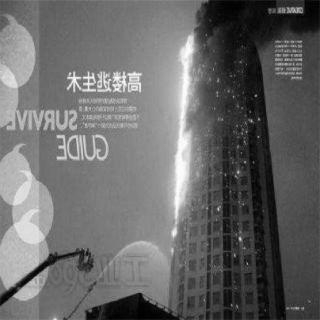Fire: (165, 28, 197, 256)
